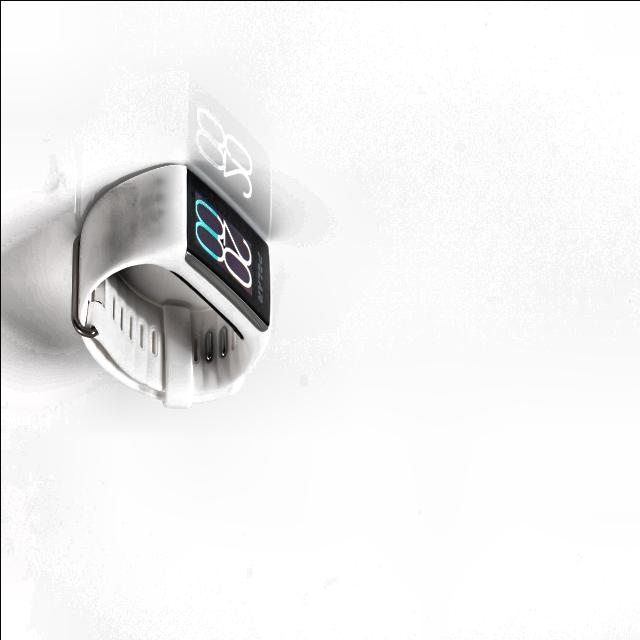Electronic watch: (71, 164, 269, 406)
